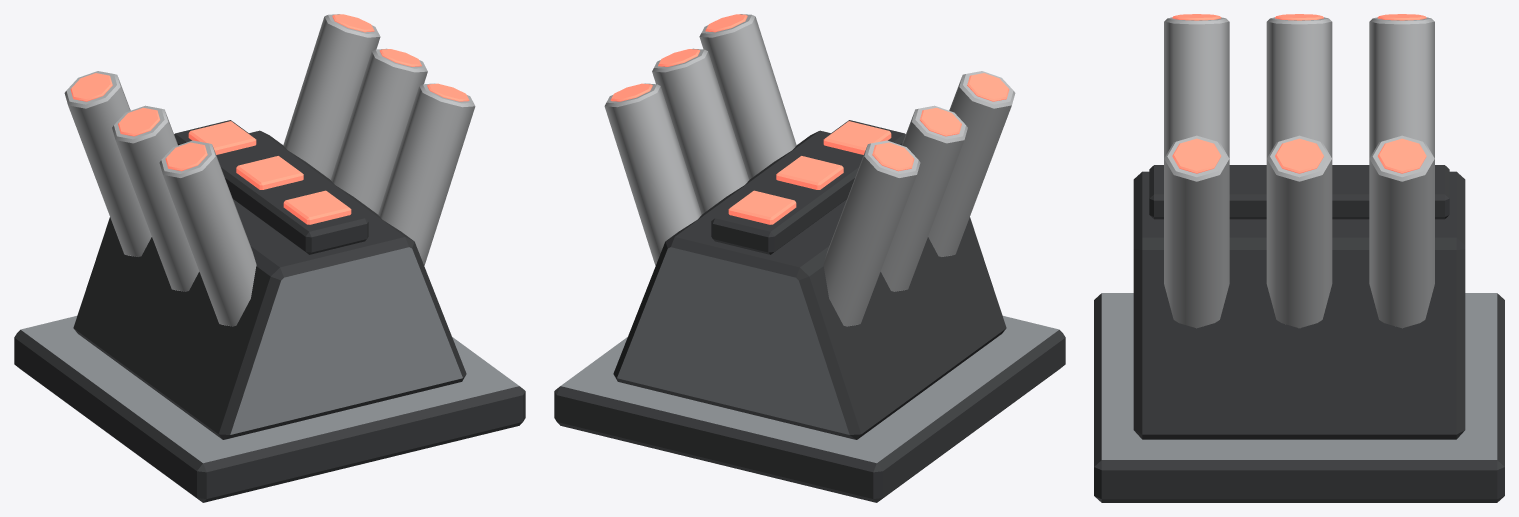
The model's file is R4X_Overdrive_LOD1.fbx.
The picture shows the model from 3 angles, left to right: view 1: azimuth 30°, elevation 25°; view 2: azimuth 150°, elevation 25°; view 3: azimuth 270°, elevation 25°; orthographic projection. The views are drawn at different scales.
Visible parts, largest first — view 1: R4X_Overdrive_LOD1; view 2: R4X_Overdrive_LOD1; view 3: R4X_Overdrive_LOD1.
Boxes of the visible parts, left/top/right/bottom form: R4X_Overdrive_LOD1: left=14, top=14, right=525, bottom=502; R4X_Overdrive_LOD1: left=554, top=14, right=1065, bottom=502; R4X_Overdrive_LOD1: left=1094, top=14, right=1504, bottom=502.
Size of the model in its own units: 0.52 by 0.4765 by 0.52.
